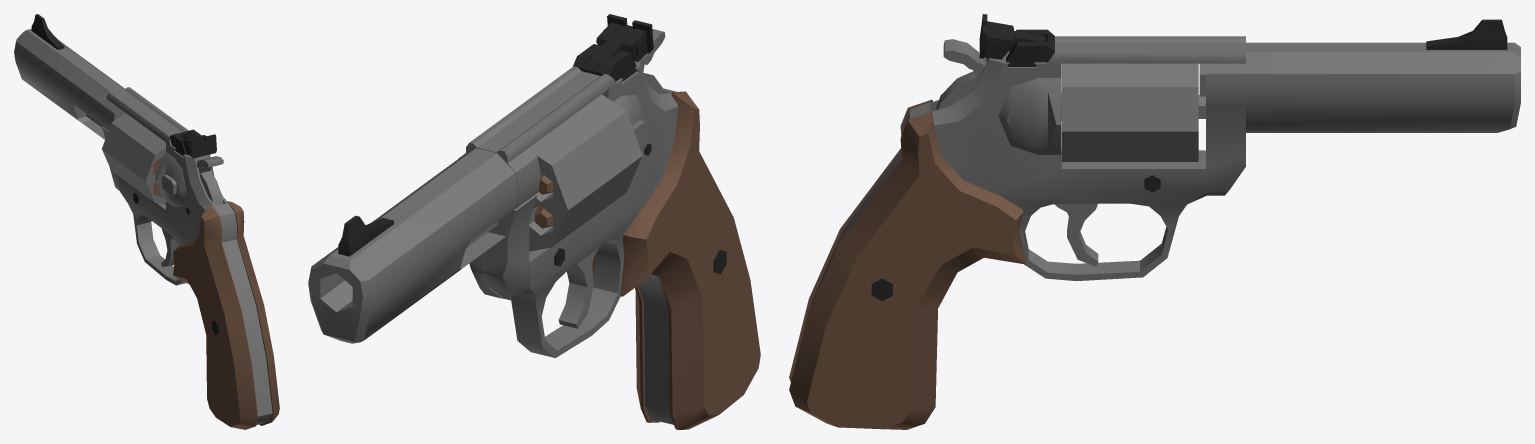
Rendered from gun_k6s.glb.
3 views of the same model, side by side, from view 1: azimuth 30°, elevation 25°; view 2: azimuth 150°, elevation 25°; view 3: azimuth 270°, elevation 25° (orthographic). The views are drawn at different scales.
Visible parts, largest first — view 1: body; view 2: body; view 3: body.
Boxes of the visible parts, box(x1,y1,x2,y2) form: body: box(14, 14, 279, 429); body: box(308, 14, 760, 429); body: box(789, 14, 1520, 429).
Bounding box in the file's own units: 0.1594 × 0.6065 × 1.
